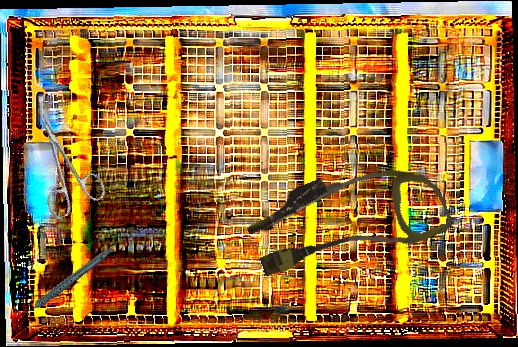Cannula: (240, 138, 455, 300)
Handpiece: (8, 247, 123, 318)
Iris Scissors: (15, 96, 110, 221)
